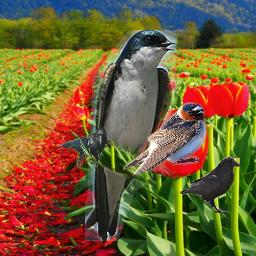Crow: (179, 156, 241, 213), (56, 127, 108, 168)
Swallow: (85, 30, 177, 241), (123, 102, 207, 176)
